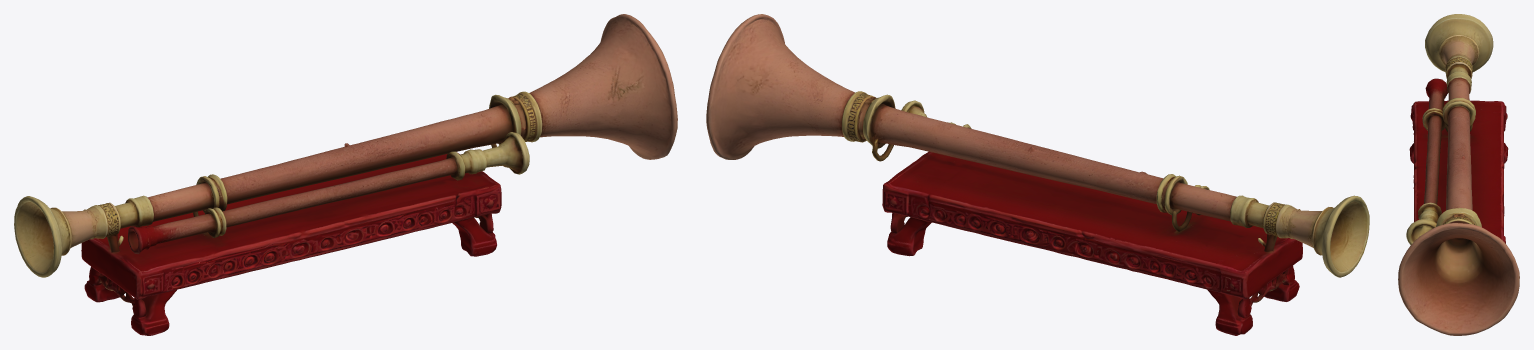
File: dungchen_horns.glb
3 views of the same model, side by side, from view 1: azimuth 30°, elevation 25°; view 2: azimuth 150°, elevation 25°; view 3: azimuth 270°, elevation 25° (orthographic). The views are drawn at different scales.
Parts seen in each view (by area): view 1: tripo_node_12ec8dab-d76e-4de5-9068-76d4070d0558; view 2: tripo_node_12ec8dab-d76e-4de5-9068-76d4070d0558; view 3: tripo_node_12ec8dab-d76e-4de5-9068-76d4070d0558.
Boxes of the visible parts, left/top/right/bottom form: tripo_node_12ec8dab-d76e-4de5-9068-76d4070d0558: left=14, top=14, right=677, bottom=335; tripo_node_12ec8dab-d76e-4de5-9068-76d4070d0558: left=706, top=14, right=1369, bottom=335; tripo_node_12ec8dab-d76e-4de5-9068-76d4070d0558: left=1398, top=14, right=1519, bottom=335.
Bounding box in the file's own units: 2.24 × 0.6 × 0.4793.
Materials: 1 (1 with a texture image).
